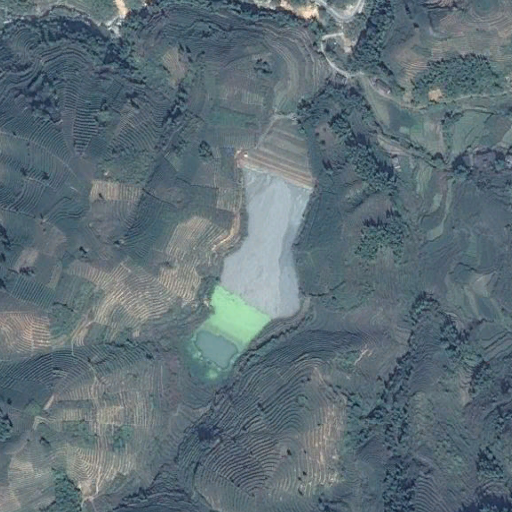tp: (186, 113, 321, 382)
